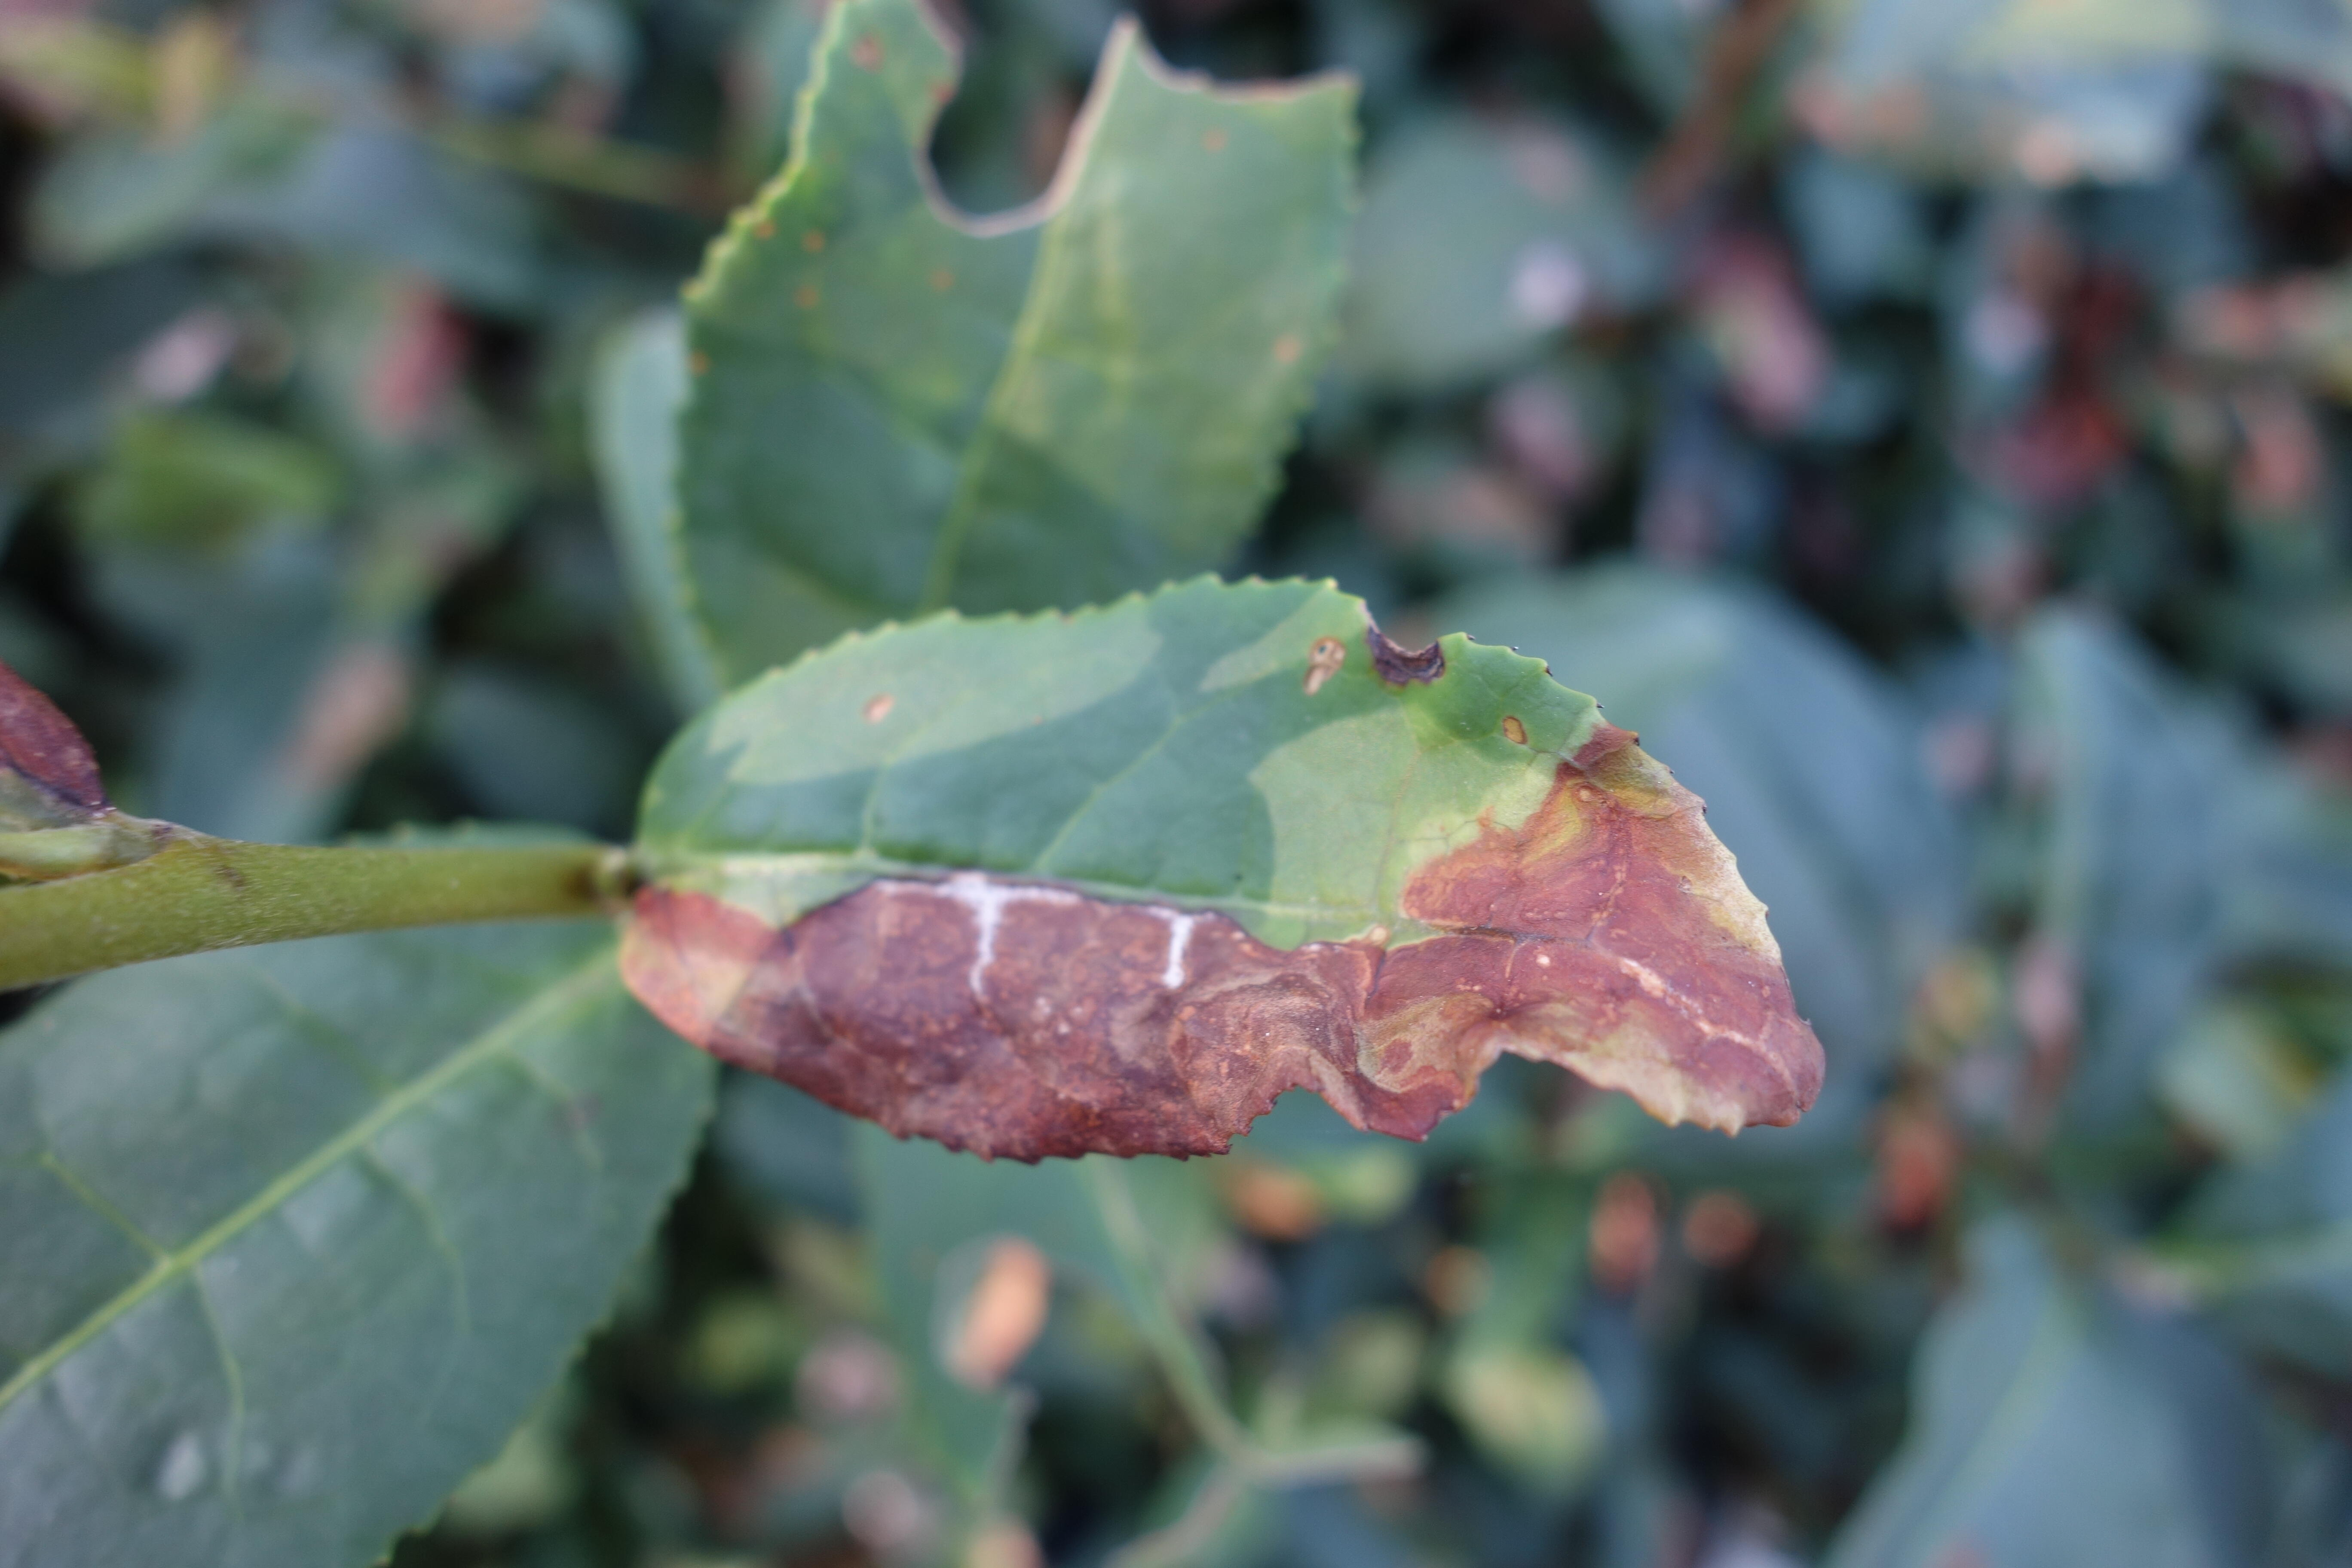chihuo_high: (651, 7, 1361, 646)
tanju_high: (604, 574, 1830, 1162)
